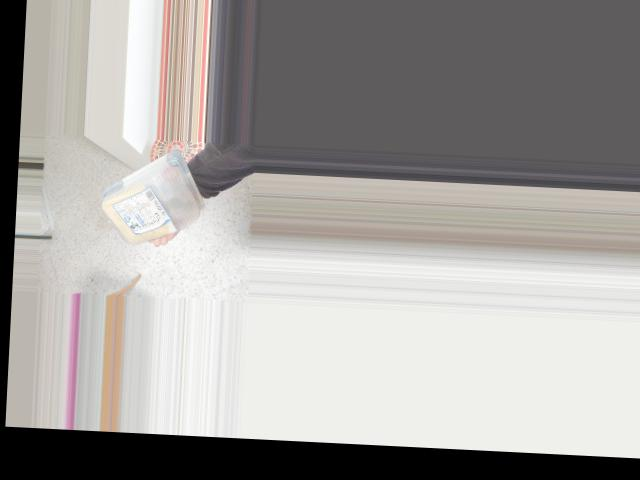cheese: (93, 152, 206, 248)
